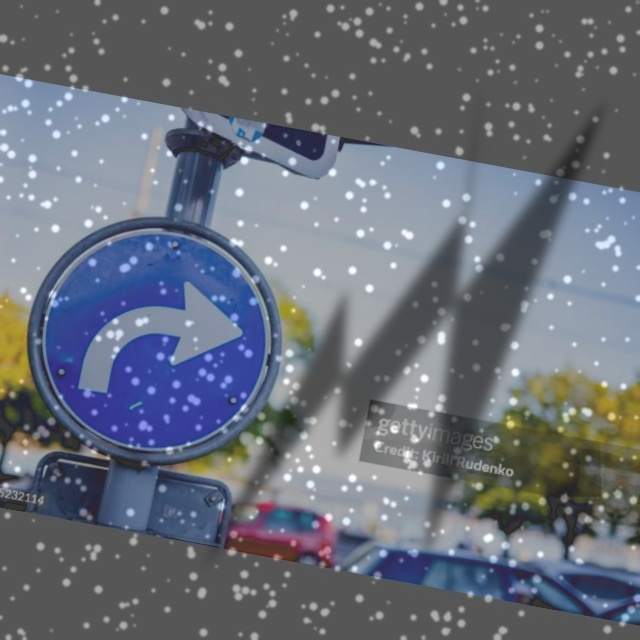Compulsory_Turn_Right_Ahead: (18, 201, 293, 477)
